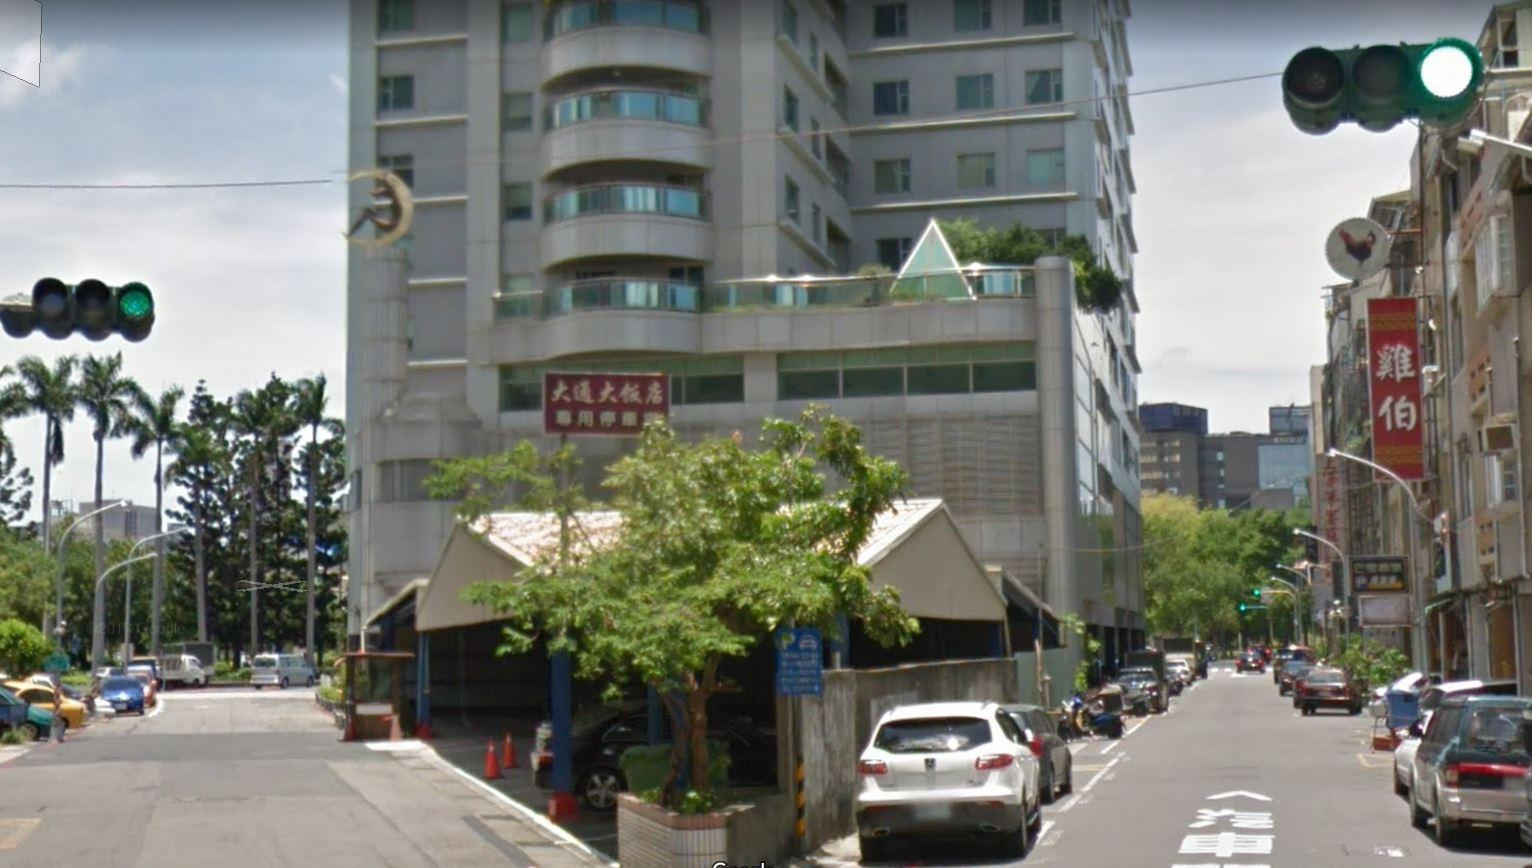green_traffic_light: (1274, 35, 1490, 141), (28, 272, 158, 345)
